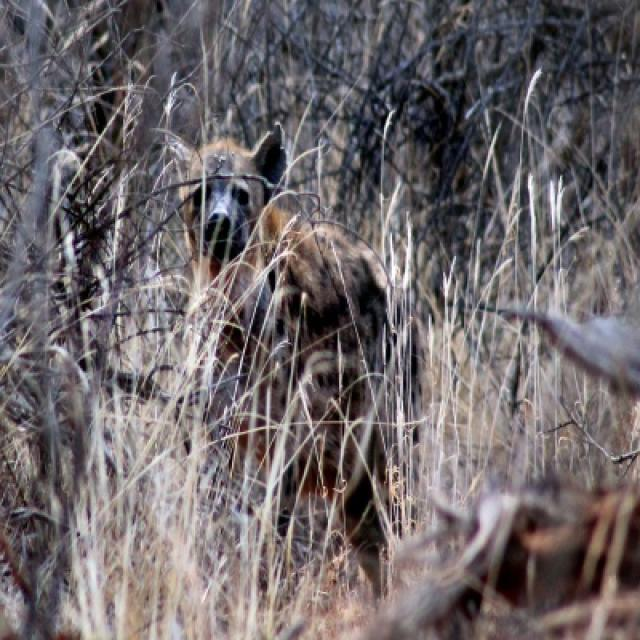hyena: (165, 126, 407, 460)
